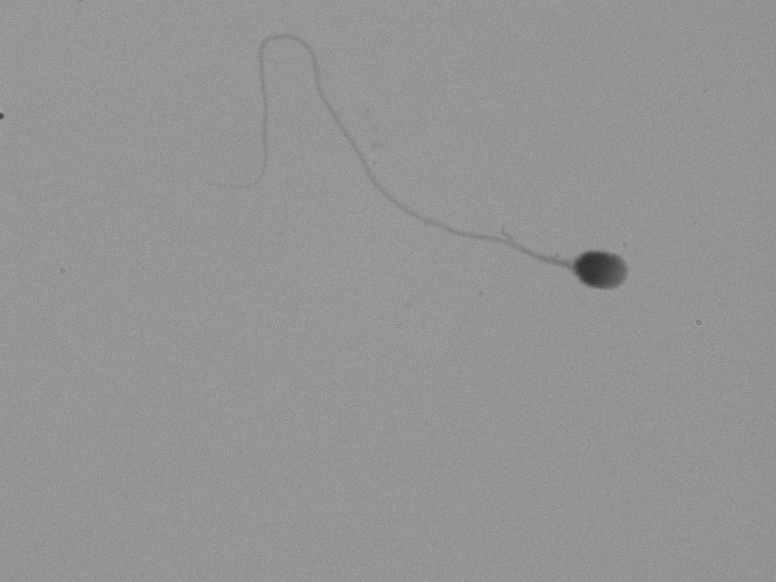Normal: (211, 31, 653, 390)
